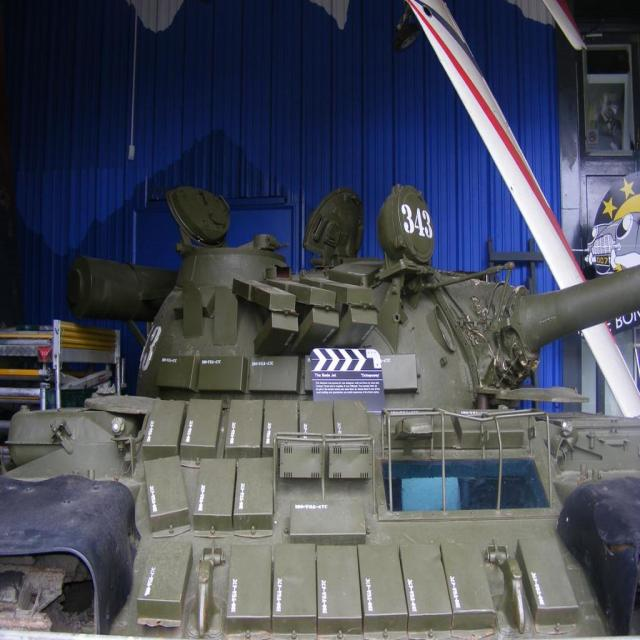tank: (0, 188, 639, 639)
